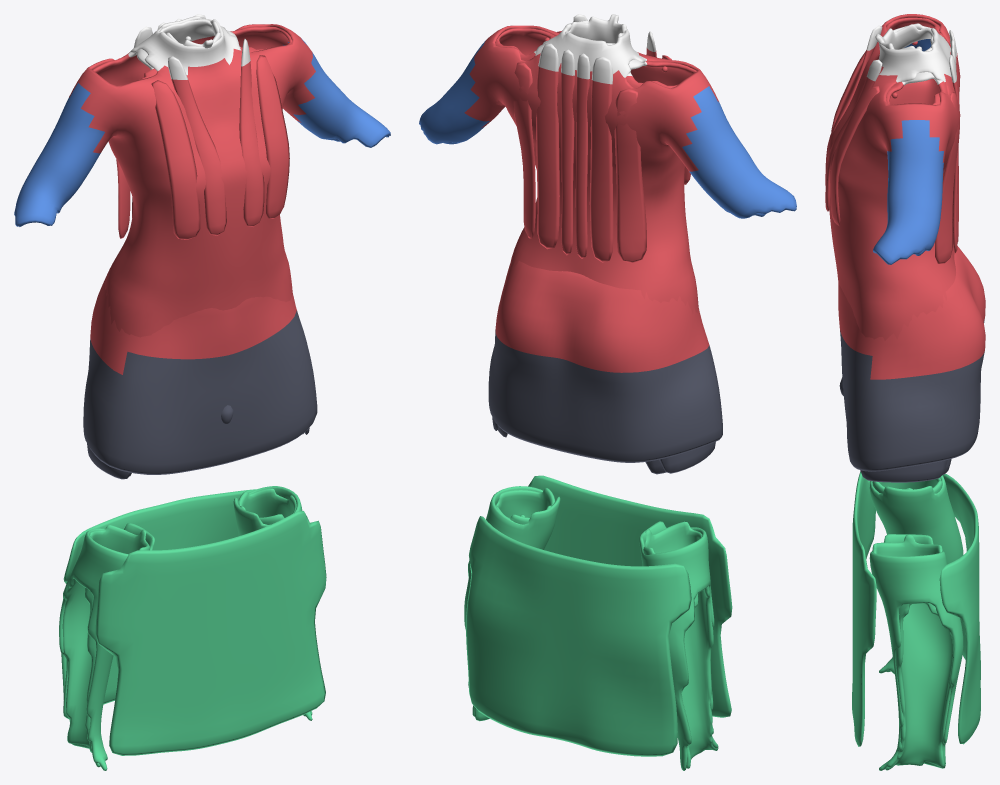
Rendered from kit.glb.
3 views of the same model, side by side, from view 1: azimuth 30°, elevation 25°; view 2: azimuth 150°, elevation 25°; view 3: azimuth 270°, elevation 25° (orthographic). The views are drawn at different scales.
Visible parts, largest first — view 1: kit; view 2: kit; view 3: kit.
Part boxes in pixels (x1=…): kit: x1=14, y1=14, x2=390, y2=770; kit: x1=419, y1=14, x2=796, y2=770; kit: x1=825, y1=14, x2=985, y2=770.
Bounding box in the file's own units: 1.11 × 2 × 0.4229.
